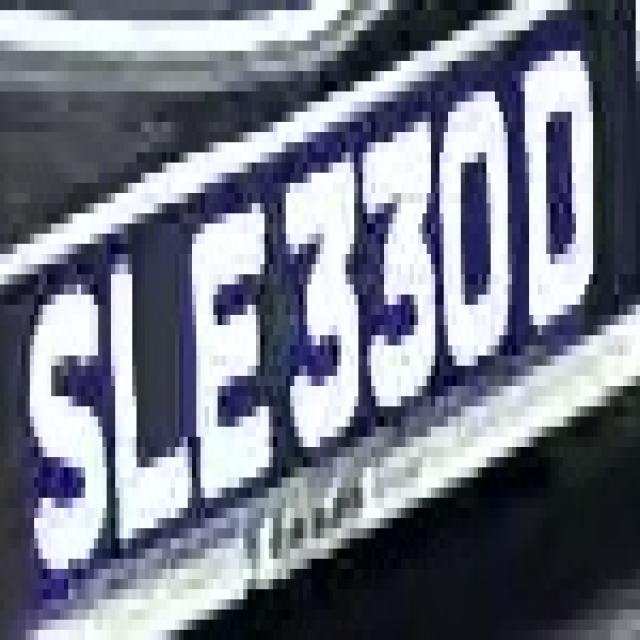0: (431, 71, 508, 386)
3: (354, 102, 444, 457), (268, 163, 362, 447)
D: (508, 31, 606, 346)
E: (170, 193, 282, 508)
L: (90, 224, 188, 548)
S: (21, 264, 107, 579)
